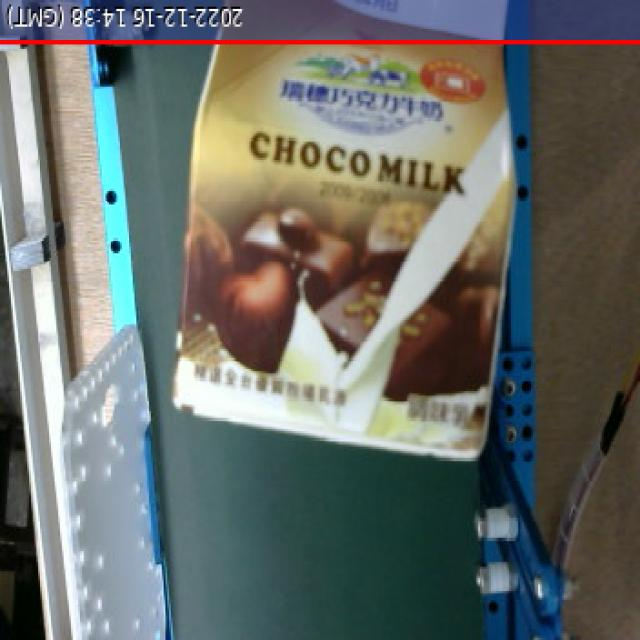non_white_jug: (165, 0, 522, 478)
